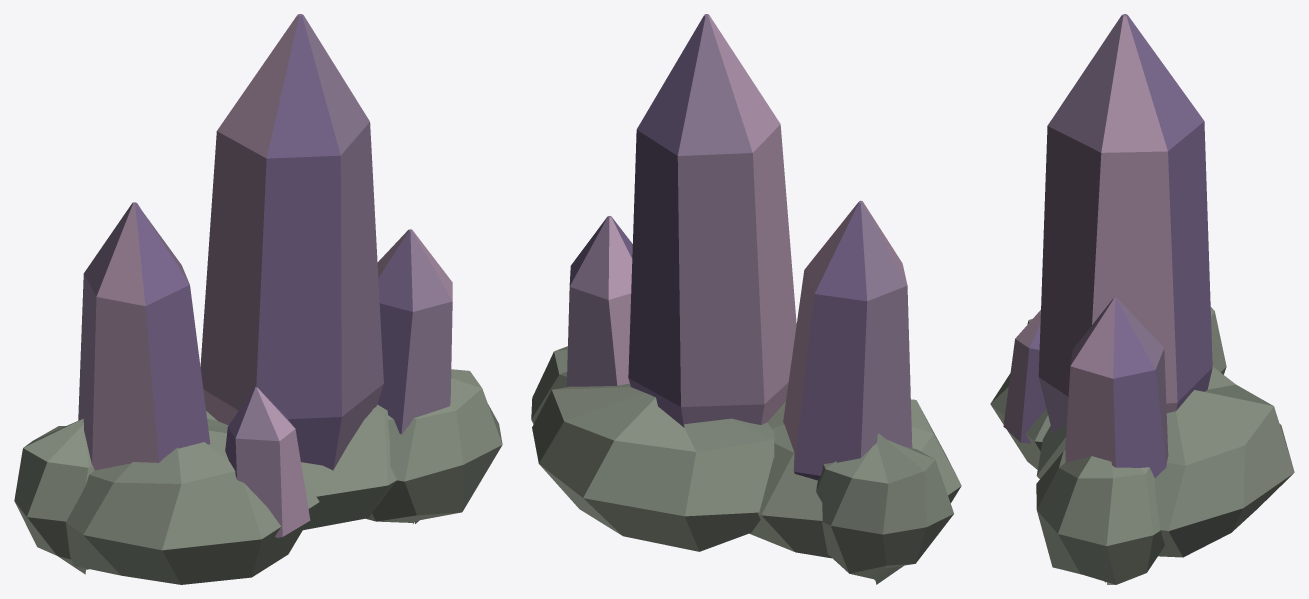
File: crystal3.glb
3 views of the same model, side by side, from view 1: azimuth 30°, elevation 25°; view 2: azimuth 150°, elevation 25°; view 3: azimuth 270°, elevation 25° (orthographic). The views are drawn at different scales.
Visible parts, largest first — view 1: crystal3; view 2: crystal3; view 3: crystal3.
Part boxes in pixels (x1,y1,x2,y2): crystal3: (14,14,502,584); crystal3: (531,14,961,584); crystal3: (990,14,1294,584).
Bounding box in the file's own units: 1.45 × 1.61 × 0.8548.
